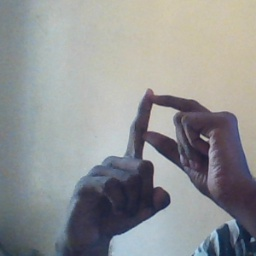D: (105, 81, 224, 195)
